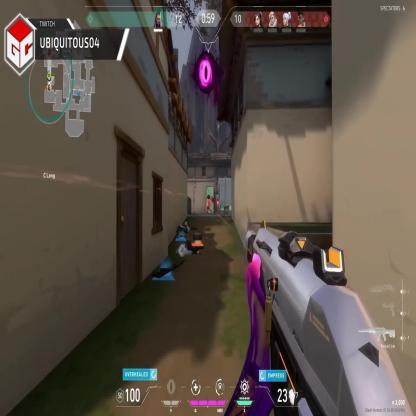enemy: (206, 196, 212, 214), (216, 198, 220, 214)
enemy_head: (207, 196, 210, 200), (216, 198, 218, 202)
